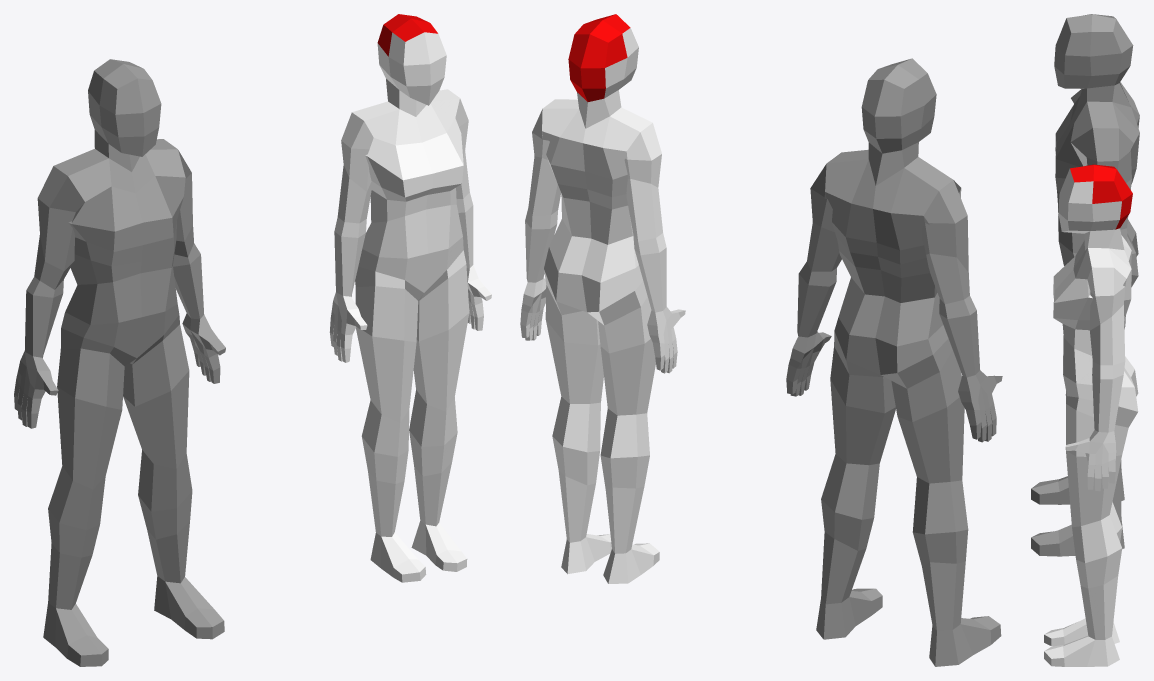
Rendered from human.obj.
3 views of the same model, side by side, from view 1: azimuth 30°, elevation 25°; view 2: azimuth 150°, elevation 25°; view 3: azimuth 270°, elevation 25° (orthographic). The views are drawn at different scales.
Parts seen in each view (by area): view 1: HumanMale_meHumanMale.001, HumanFemale_meHumanFemale; view 2: HumanMale_meHumanMale.001, HumanFemale_meHumanFemale; view 3: HumanFemale_meHumanFemale, HumanMale_meHumanMale.001.
Boxes of the visible parts, x1,y1,x2,y2 form: HumanMale_meHumanMale.001: (14, 59, 225, 666); HumanFemale_meHumanFemale: (329, 14, 491, 582); HumanMale_meHumanMale.001: (786, 58, 1002, 666); HumanFemale_meHumanFemale: (520, 14, 685, 583); HumanFemale_meHumanFemale: (1044, 164, 1138, 666); HumanMale_meHumanMale.001: (1031, 14, 1139, 556).
Bounding box in the file's own units: 1.57 × 1.87 × 0.3618.
